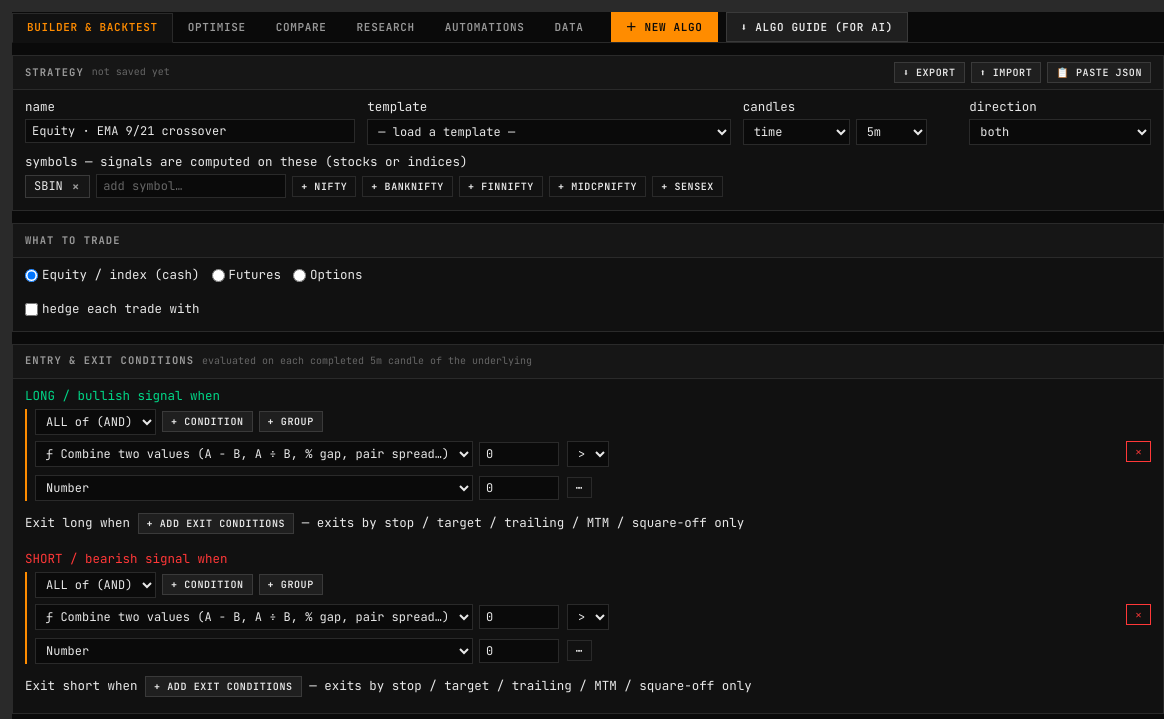
Test: Data tab: research recording › shows both switches off by default and the disk projection
Click the button "Data": (569, 27) [540, 12, 599, 42]
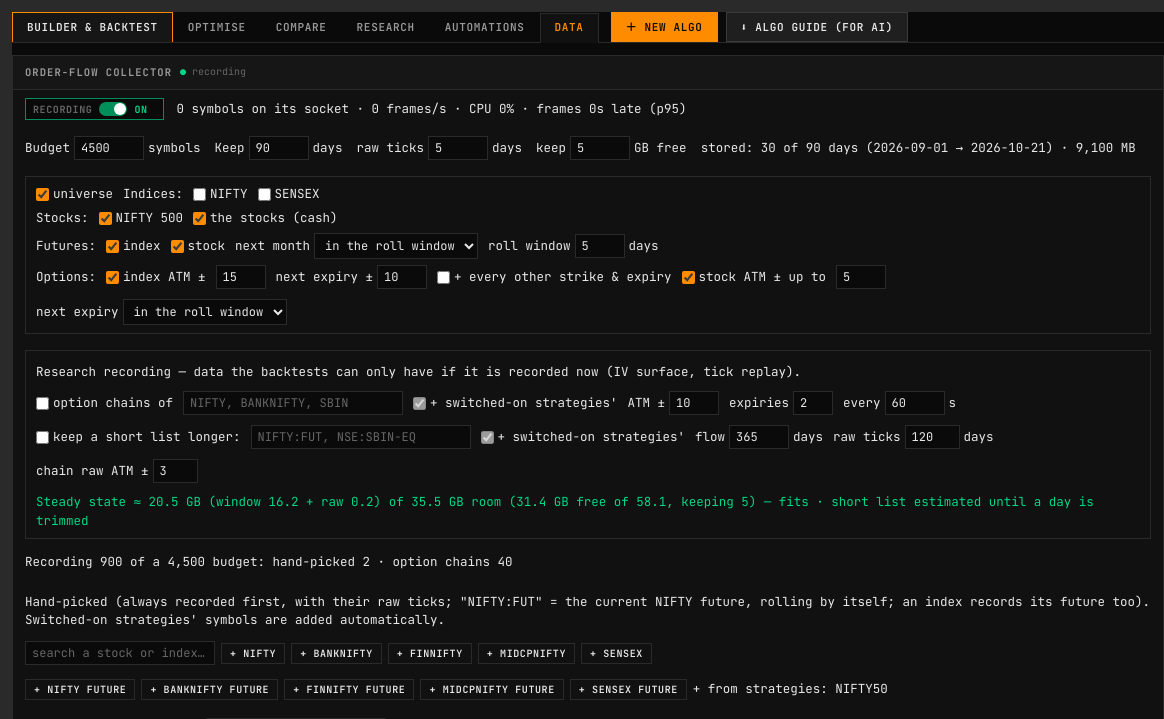
Expected: the checkbox with test id "flow-chains-on" is not checked, [36, 397, 49, 410]
Expected: the checkbox with test id "flow-long-on" is not checked, [36, 431, 49, 444]
Expected: the text with test id "flow-capacity" shows "20.5 GB", [36, 493, 1140, 530]
